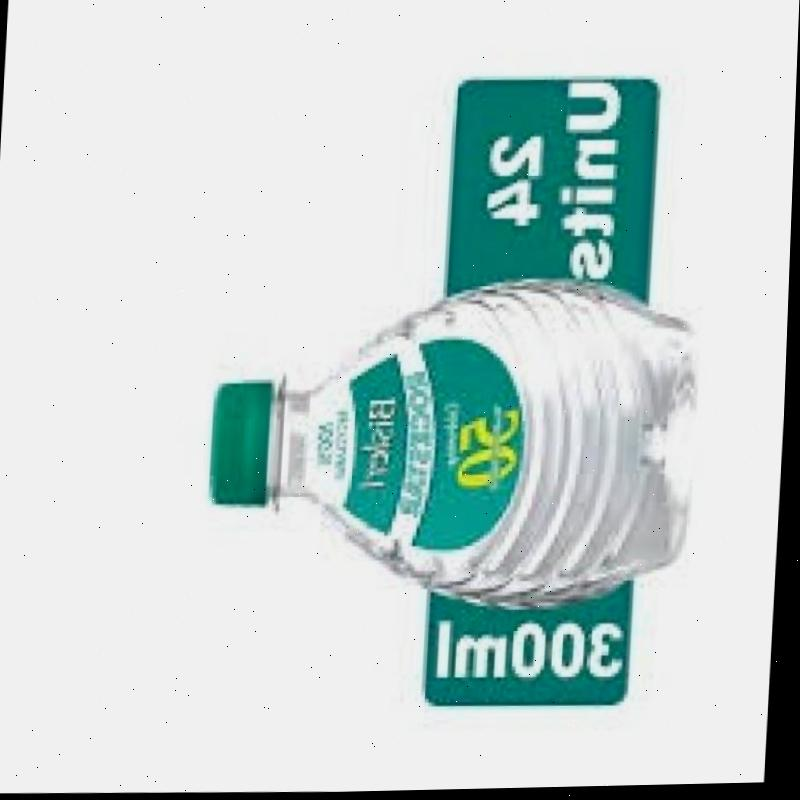botella: (200, 265, 711, 621)
